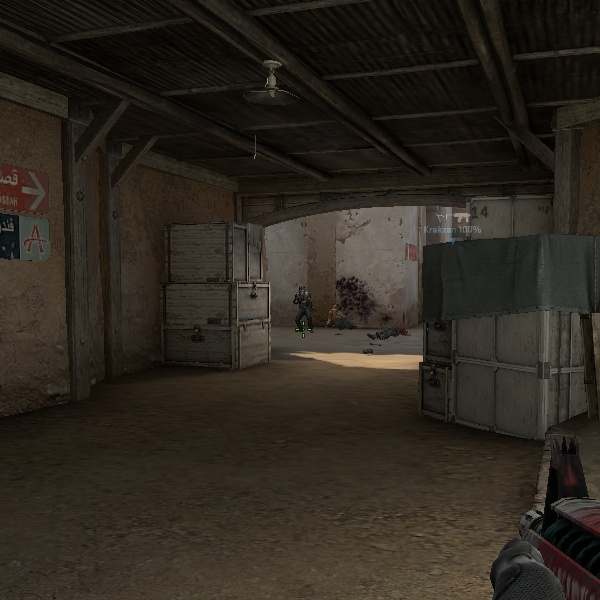ct_body: (288, 284, 316, 332)
ct_head: (296, 285, 309, 299)
